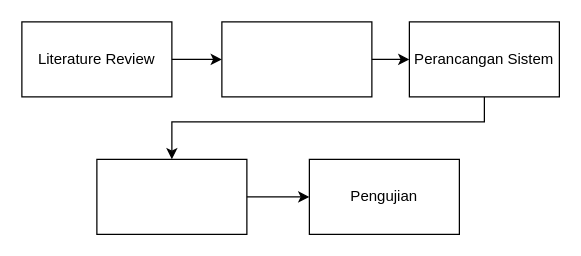
Some shapes in this 581 by 256 pixel diagram are drawn without their labels. Each missing label, with the centre of its shape:
"Analisis Kebutuhan" goes at [296,59].
"Implementasi" goes at [171,196].
